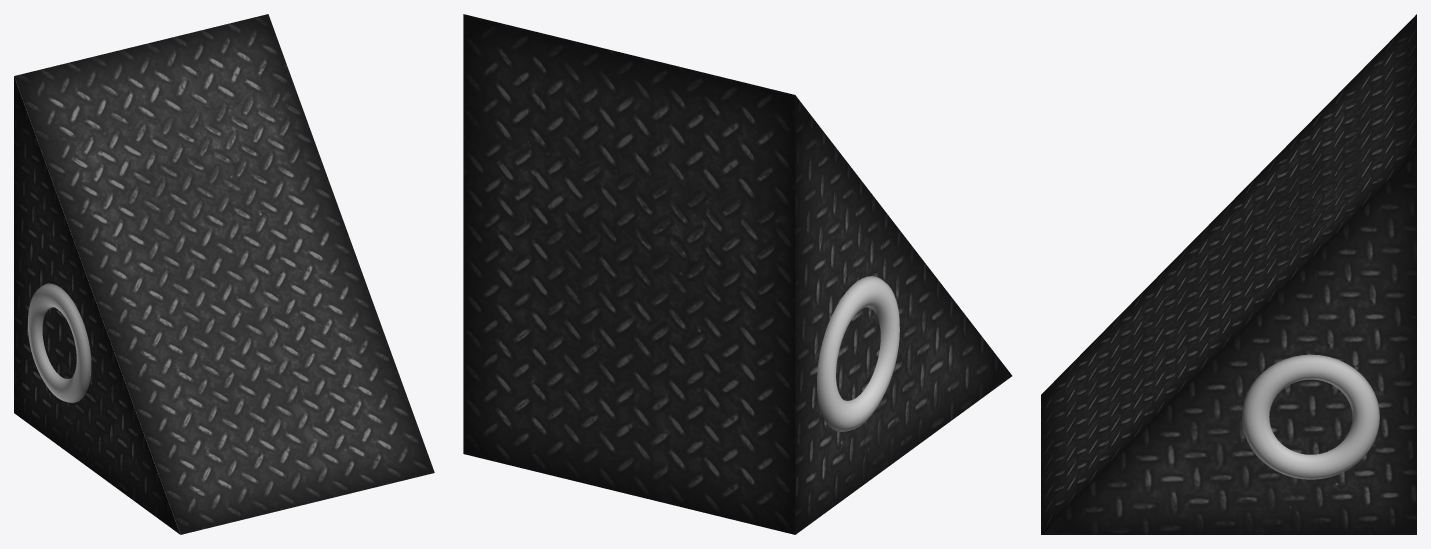
The model's file is Rester.fbx.
The picture shows the model from 3 angles, left to right: view 1: azimuth 30°, elevation 25°; view 2: azimuth 150°, elevation 25°; view 3: azimuth 270°, elevation 25°; orthographic projection. The views are drawn at different scales.
Parts seen in each view (by area): view 1: Model; view 2: Model; view 3: Model.
Part boxes in pixels (left/top/right/bottom): Model: left=14, top=14, right=434, bottom=534; Model: left=463, top=14, right=1012, bottom=534; Model: left=1041, top=14, right=1416, bottom=534.
Bounding box in the file's own units: 31.5 × 38 × 34.
